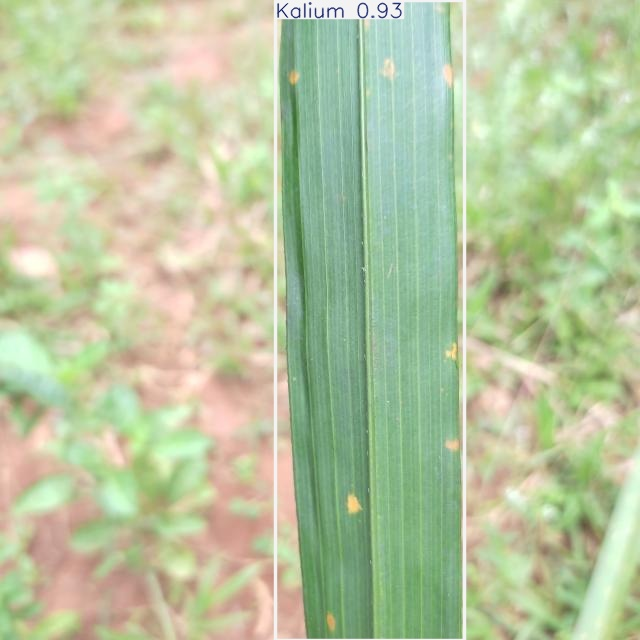Kalium: (275, 0, 464, 640)
